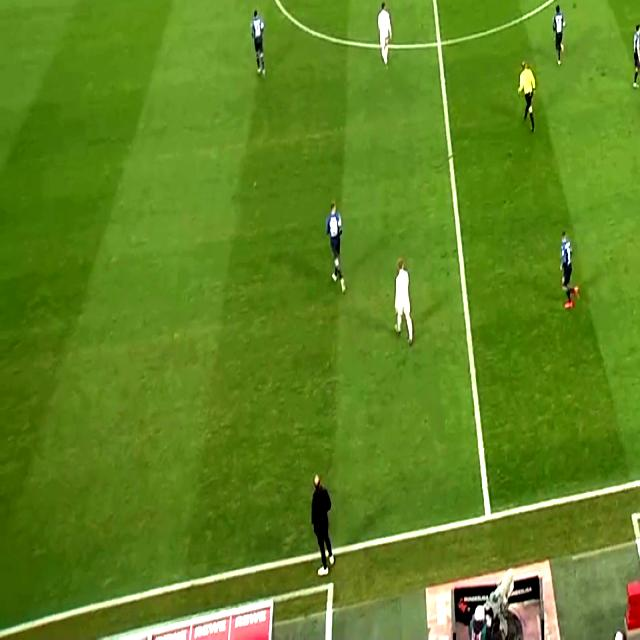referee: (511, 60, 543, 138)
soccer-player: (321, 198, 356, 299), (388, 250, 424, 344), (552, 224, 586, 317), (247, 7, 276, 82), (369, 0, 397, 71), (548, 1, 574, 67), (625, 21, 640, 98)
